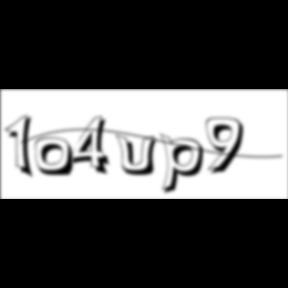1: (5, 114, 40, 182)
4: (70, 115, 116, 179)
9: (206, 117, 250, 177)
o: (35, 137, 77, 179)
p: (161, 132, 211, 198)
u: (116, 132, 164, 178)
